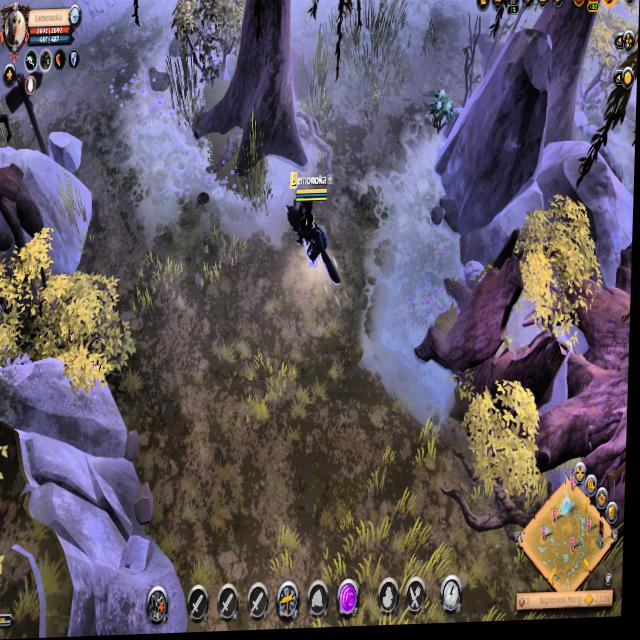fiber tier 3: (426, 89, 458, 141)
